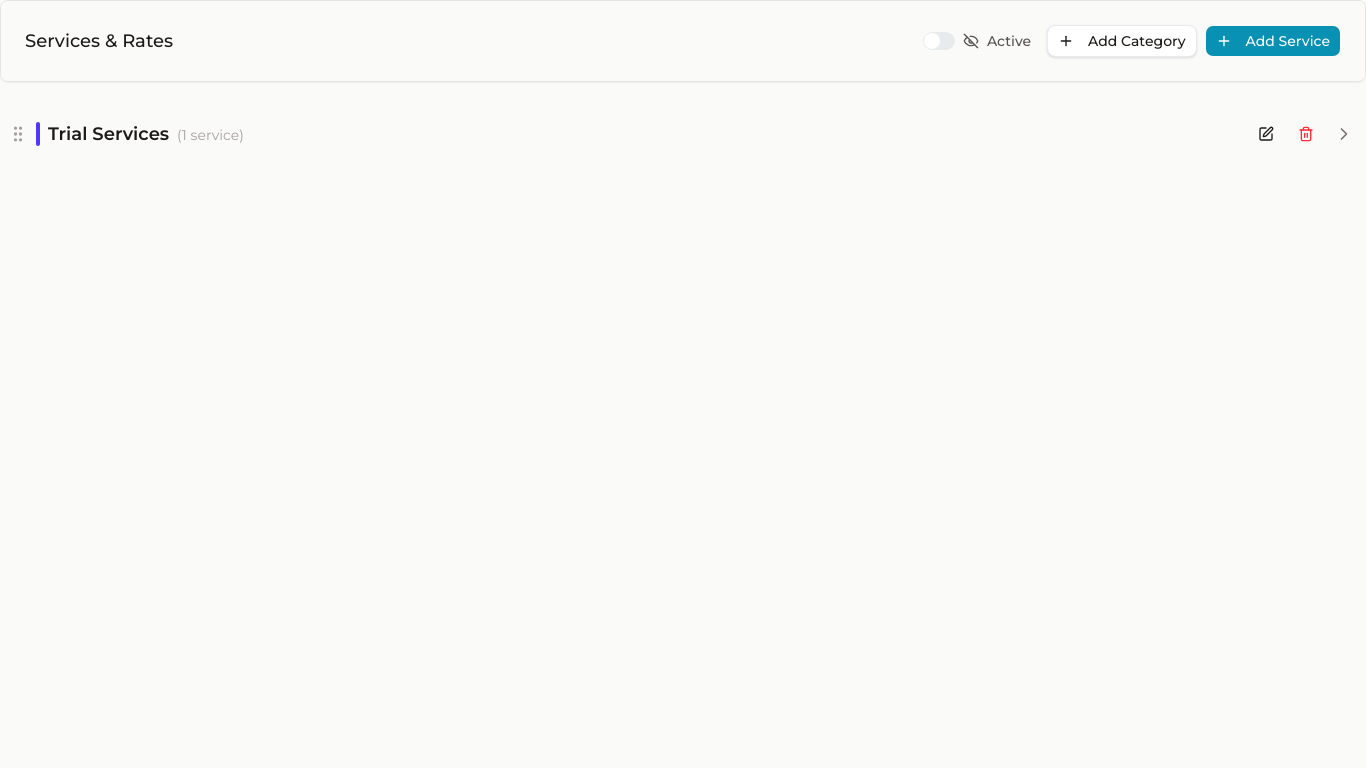
Test: ServicesSettingsTab › opens the delete dialog when the service is NOT used in any trial
The image size is (1366, 768).
Note: Expand the category first.
Click the text "Trial Services".
click(146, 134)  # box x1=48 y1=120 x2=244 y2=148
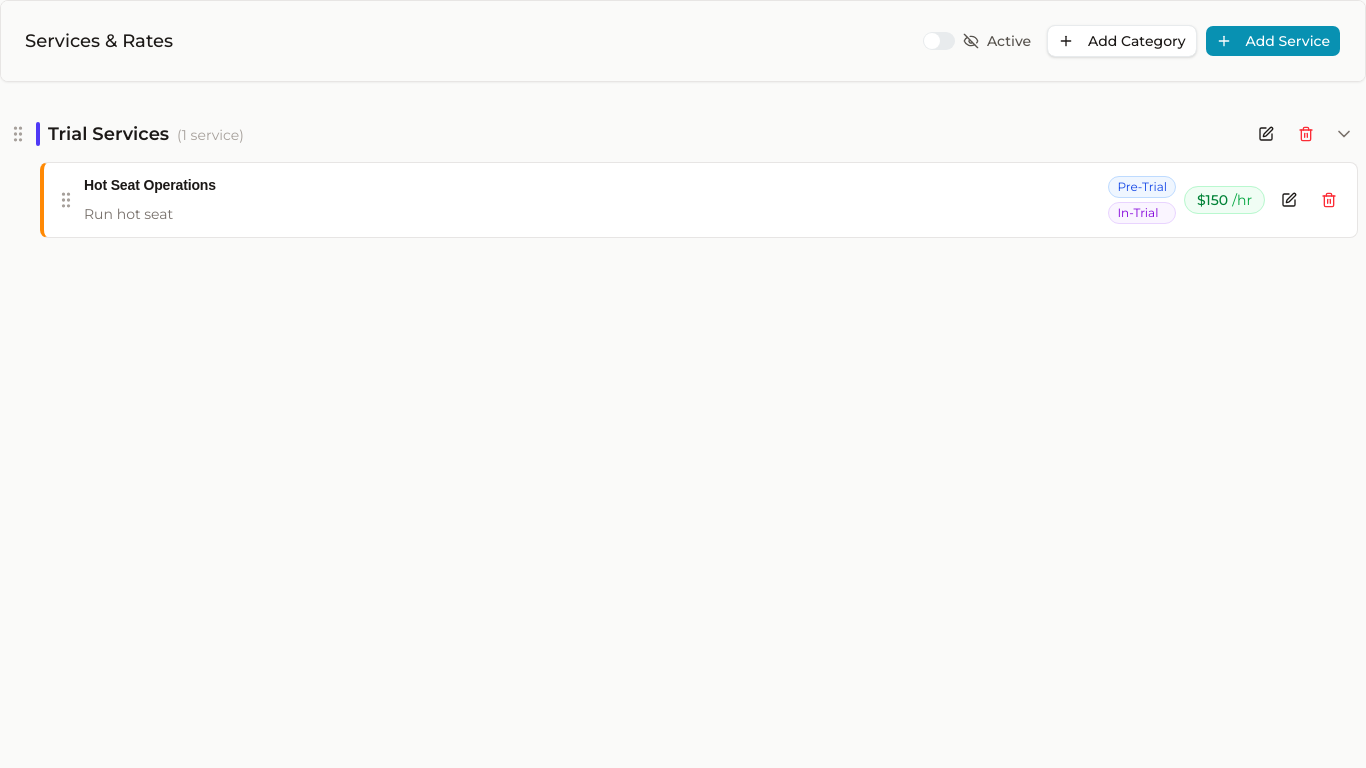
Click the button named "delete service".
click(1329, 200)  # box x1=1313 y1=184 x2=1345 y2=216
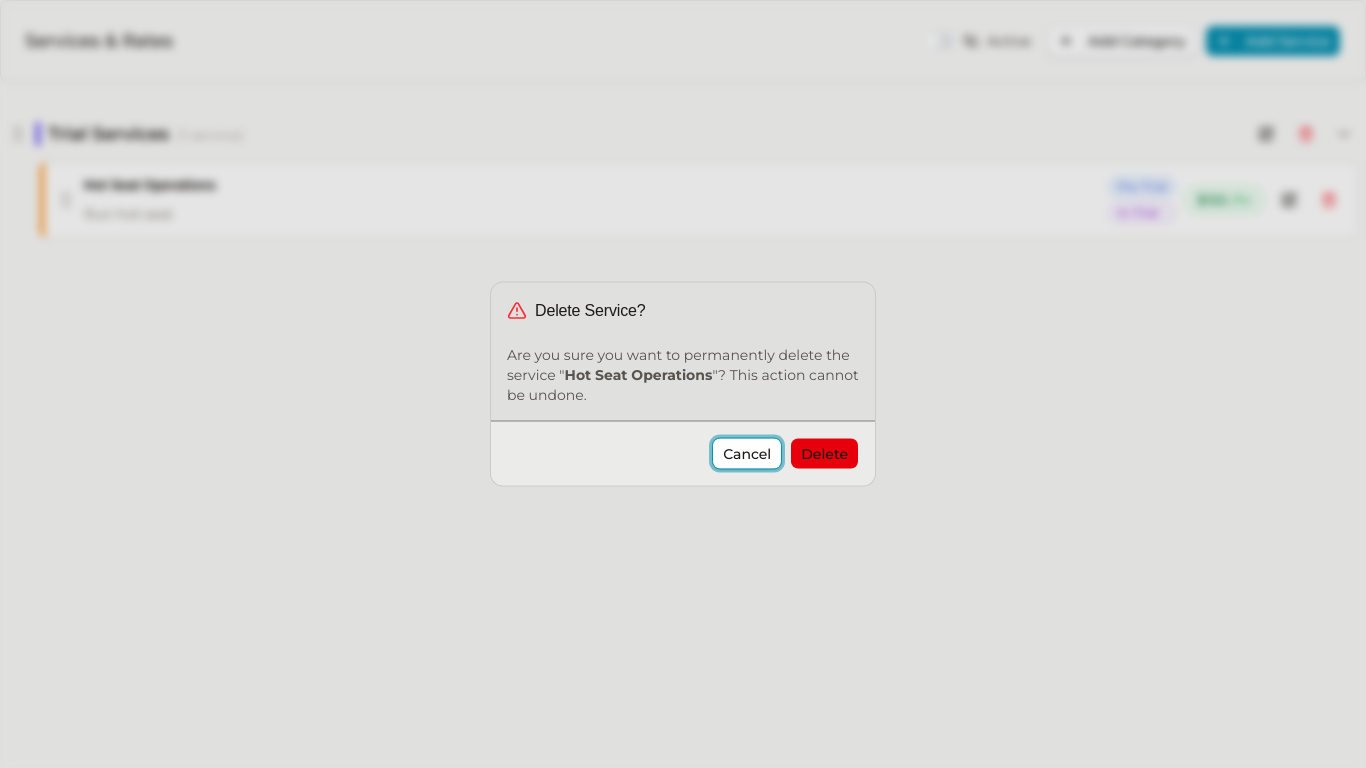
expect the heading "Delete Service?" is shown: met, box x1=507 y1=298 x2=646 y2=322
expect the button "Delete" is shown: met, box x1=790 y1=438 x2=859 y2=470
